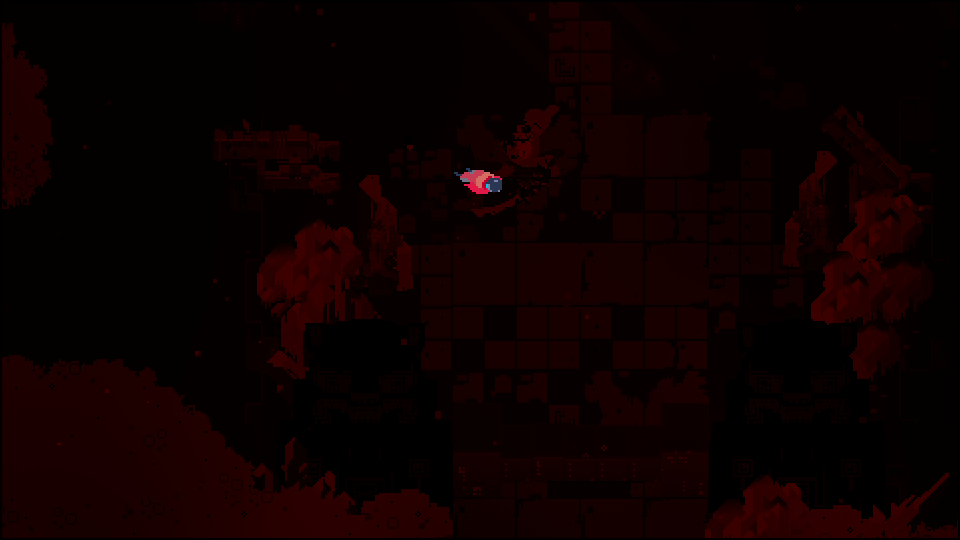player: (456, 168, 506, 194)
